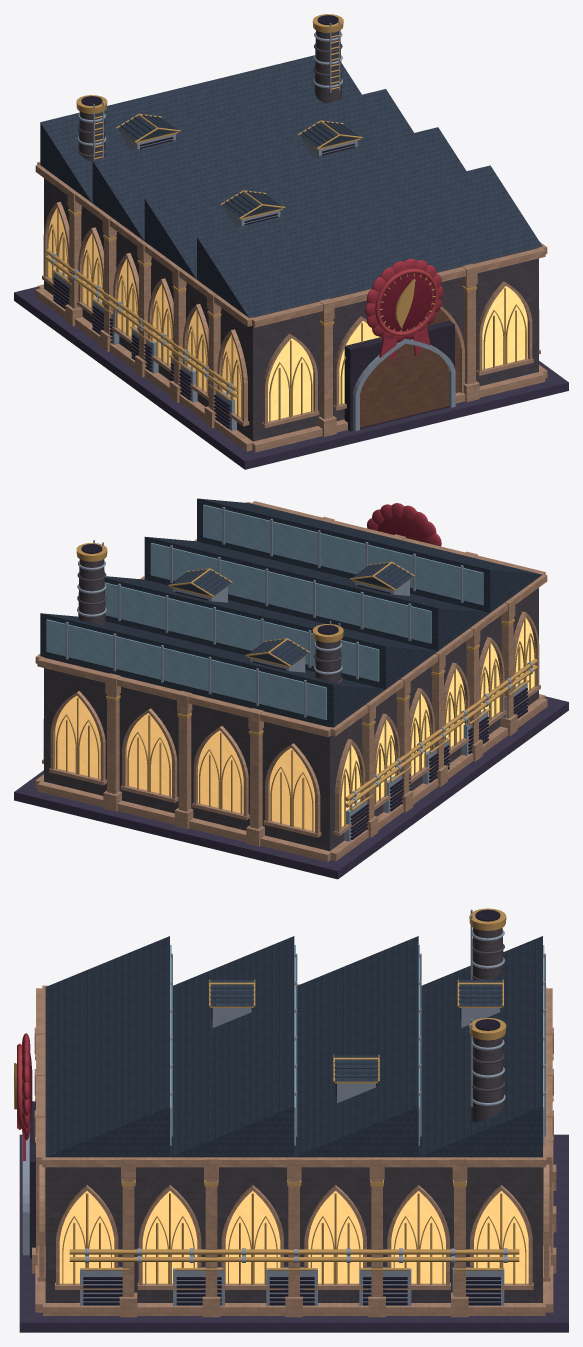
The model's file is sealwright-foundry.glb.
3 renders of one model, top to bottom at view 1: azimuth 30°, elevation 25°; view 2: azimuth 150°, elevation 25°; view 3: azimuth 270°, elevation 25°, orthographic. The views are drawn at different scales.
Bounding box in the file's own units: 17 × 12.02 × 21.21.
14 materials, 14 textured.
